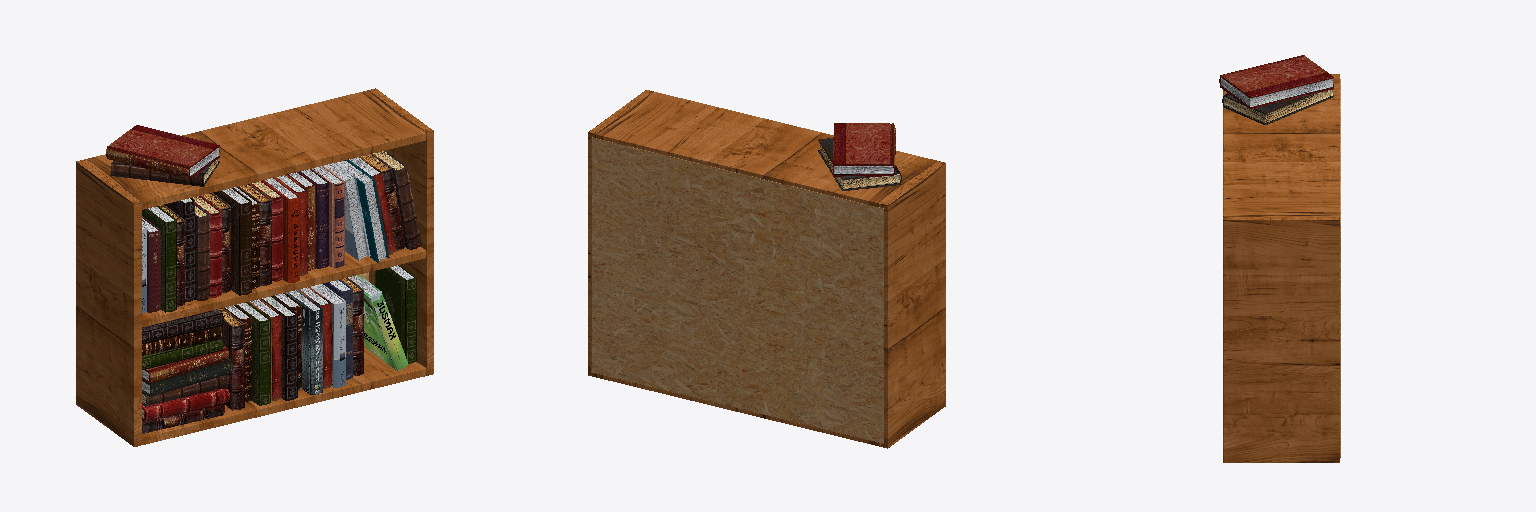
3 views of the same model, side by side, from view 1: azimuth 30°, elevation 25°; view 2: azimuth 150°, elevation 25°; view 3: azimuth 270°, elevation 25° (orthographic).
Visible parts, largest first — view 1: Books, Bookshelf; view 2: Bookshelf, Books; view 3: Bookshelf, Books.
Boxes of the visible parts, <box> form: Books: <box>106,125,421,433</box>; Bookshelf: <box>76,88,433,446</box>; Bookshelf: <box>588,90,945,448</box>; Books: <box>818,123,901,190</box>; Bookshelf: <box>1223,74,1340,462</box>; Books: <box>1219,55,1333,124</box>.
Bounding box in the file's own units: 40.02 × 34.18 × 14.03.
Materials: 21 (21 with a texture image).